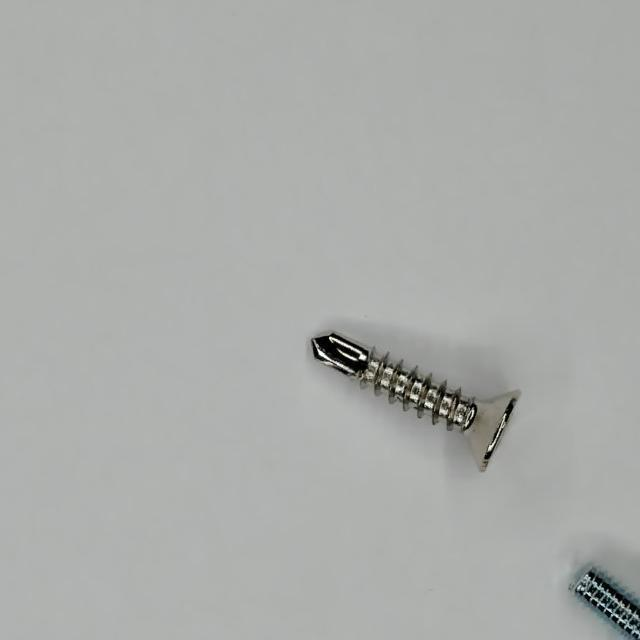Screw: (312, 333, 522, 472), (576, 573, 640, 640)
